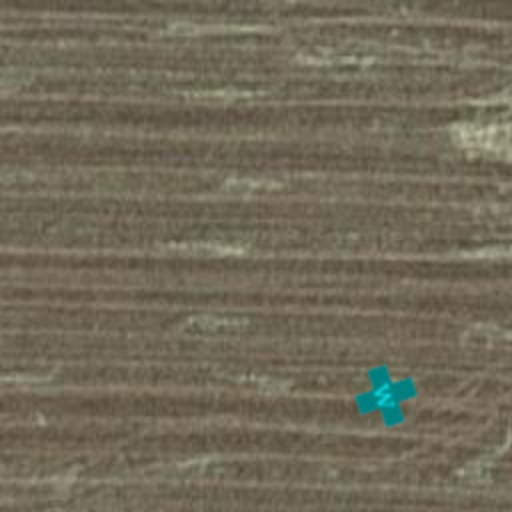cross: (346, 356, 426, 436)
